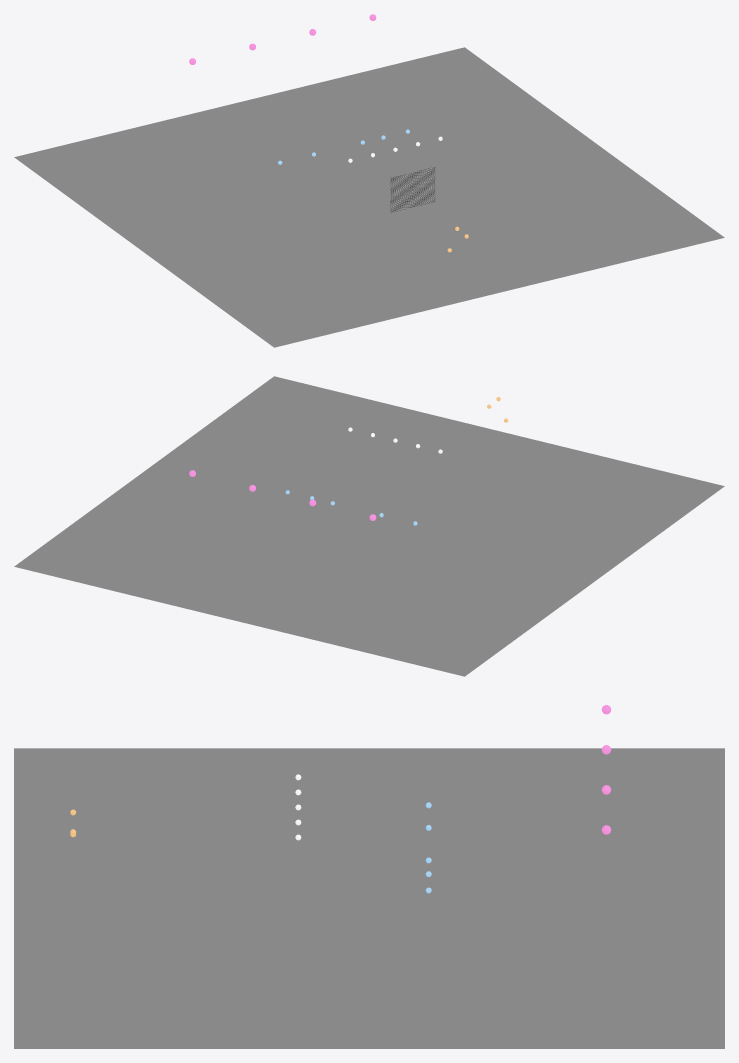
The model's file is dof_fixture.gltf.
3 views of the same model, one above another, from view 1: azimuth 30°, elevation 25°; view 2: azimuth 150°, elevation 25°; view 3: azimuth 270°, elevation 25° (orthographic). The views are drawn at different scales.
Parts seen in each view (by area): view 1: dof_fixture; view 2: dof_fixture; view 3: dof_fixture.
Part boxes in pixels (<box>): dof_fixture: <box>14,14,724,347</box>; dof_fixture: <box>14,376,724,676</box>; dof_fixture: <box>14,705,724,1048</box>.
Size of the model in its own units: 12 by 2.48 by 12.
Materials: 6 (1 with a texture image).
